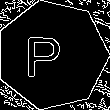P_N: (33, 30, 71, 80)
